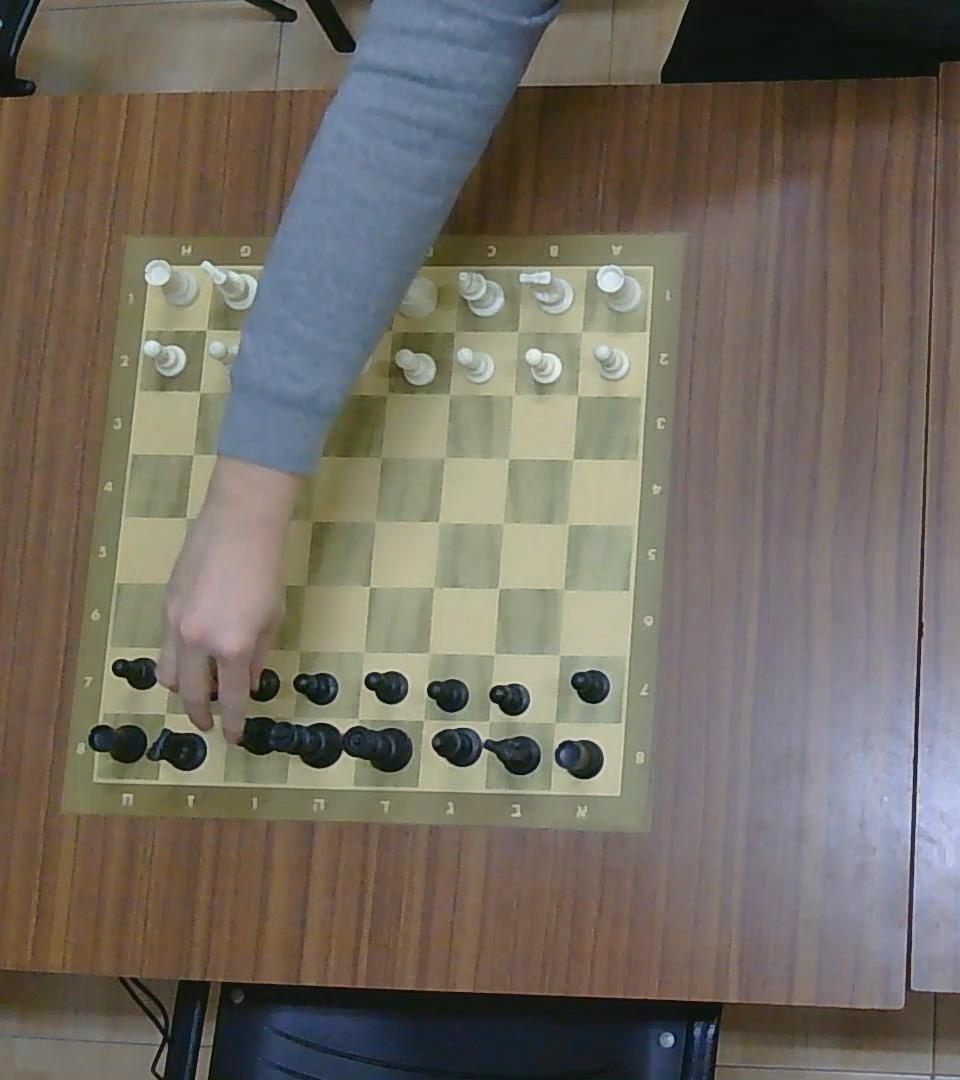xcorner: (316, 313, 344, 344), (178, 439, 207, 468), (152, 698, 180, 728), (172, 502, 200, 530), (344, 704, 371, 733), (378, 315, 404, 345), (216, 700, 242, 730), (166, 567, 192, 596), (312, 377, 338, 405), (286, 635, 311, 664), (162, 635, 187, 664), (252, 314, 277, 343), (280, 704, 305, 733), (442, 317, 468, 344), (474, 707, 500, 734), (355, 571, 380, 599), (249, 377, 274, 405), (235, 505, 259, 534), (563, 380, 589, 406), (361, 506, 386, 533), (351, 637, 376, 664), (193, 315, 218, 342), (229, 571, 253, 599), (244, 441, 268, 469), (425, 508, 450, 534), (504, 318, 530, 343), (299, 506, 323, 533), (306, 443, 330, 470), (293, 571, 316, 599), (224, 635, 246, 664), (375, 378, 399, 404), (410, 707, 434, 733), (437, 380, 461, 405), (420, 574, 444, 599), (556, 512, 581, 536), (543, 710, 568, 734), (570, 318, 594, 343), (368, 444, 391, 469), (187, 377, 210, 402), (551, 577, 576, 600), (432, 445, 455, 469), (491, 511, 515, 534), (486, 575, 509, 599), (417, 641, 441, 664), (600, 0, 625, 22), (481, 642, 503, 666), (562, 447, 584, 470), (497, 446, 519, 468), (502, 382, 524, 404), (548, 643, 569, 665)
